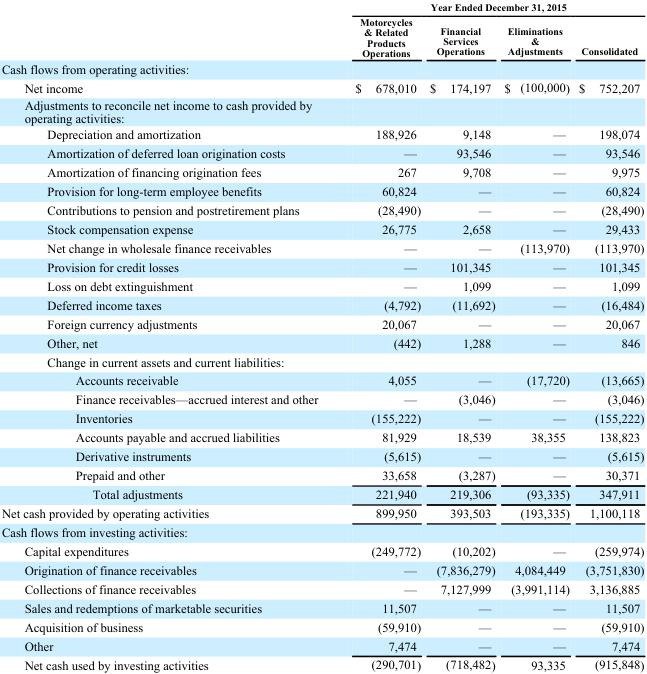table: (0, 0, 643, 671)
table column: (0, 0, 335, 671), (335, 0, 424, 671), (424, 0, 499, 671), (499, 0, 573, 671), (573, 0, 643, 671)
table column header: (0, 0, 643, 59)
table projected row header: (0, 96, 643, 125), (0, 351, 643, 370), (0, 522, 643, 541), (0, 59, 643, 77)
table row: (0, 14, 643, 59), (0, 96, 643, 125), (0, 77, 643, 96), (0, 143, 643, 162), (0, 162, 643, 181), (0, 181, 643, 200), (0, 200, 643, 219), (0, 219, 643, 238), (0, 238, 643, 257), (0, 257, 643, 276), (0, 294, 643, 313), (0, 313, 643, 332), (0, 332, 643, 351), (0, 351, 643, 370), (0, 370, 643, 389), (0, 389, 643, 408), (0, 408, 643, 427), (0, 427, 643, 446), (0, 446, 643, 465), (0, 465, 643, 484), (0, 484, 643, 503), (0, 503, 643, 522), (0, 522, 643, 541), (0, 541, 643, 560), (0, 560, 643, 579), (0, 597, 643, 616), (0, 616, 643, 635), (0, 635, 643, 654), (0, 59, 643, 77), (0, 125, 643, 143), (0, 276, 643, 294), (0, 579, 643, 597), (0, 654, 643, 671), (0, 0, 643, 14)
table spanning cell: (335, 0, 643, 14)
